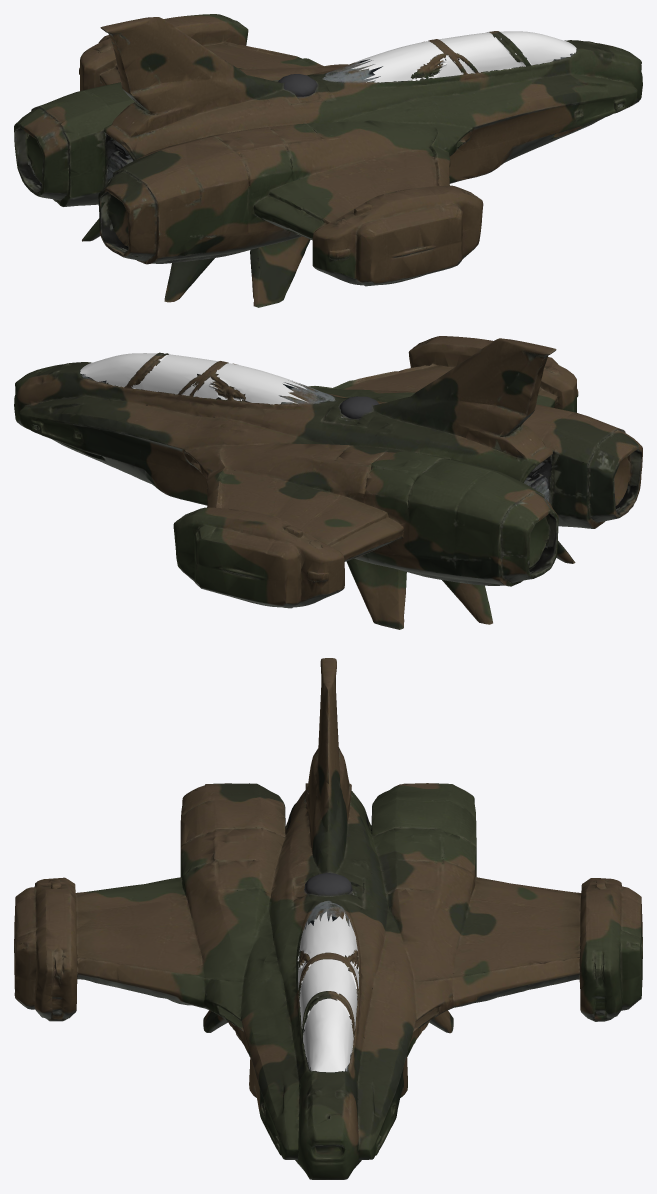
Rendered from fh_battle_attacker_t5.glb.
The picture shows the model from 3 angles, top to bottom: view 1: azimuth 30°, elevation 25°; view 2: azimuth 150°, elevation 25°; view 3: azimuth 270°, elevation 25°; orthographic projection. The views are drawn at different scales.
Visible parts, largest first — view 1: fh_battle_attacker_t5; view 2: fh_battle_attacker_t5; view 3: fh_battle_attacker_t5.
Part boxes in pixels (x1,y1,x2,y2): fh_battle_attacker_t5: (14, 14, 642, 307); fh_battle_attacker_t5: (14, 336, 642, 629); fh_battle_attacker_t5: (14, 658, 642, 1179).
Size of the model in its own units: 1 by 0.4459 by 0.8353.
2 materials, 1 textured.
